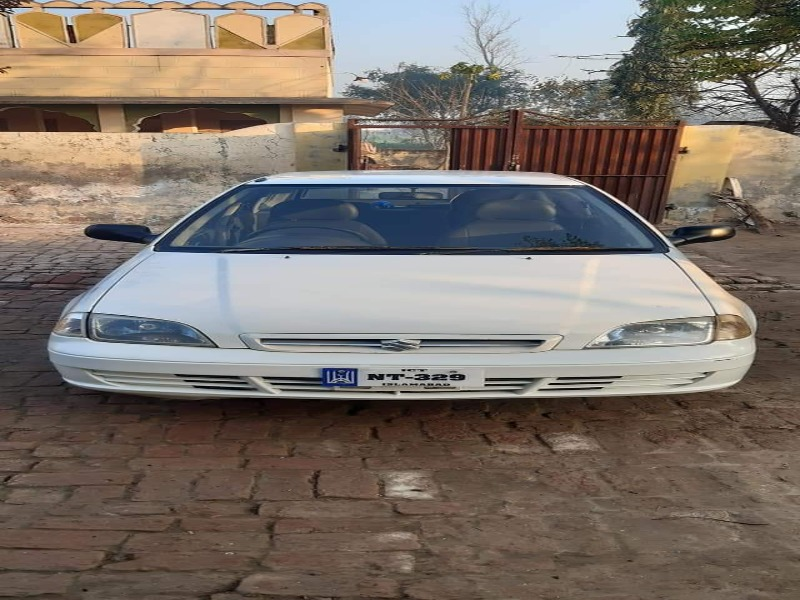License Plate: (318, 365, 488, 398)
